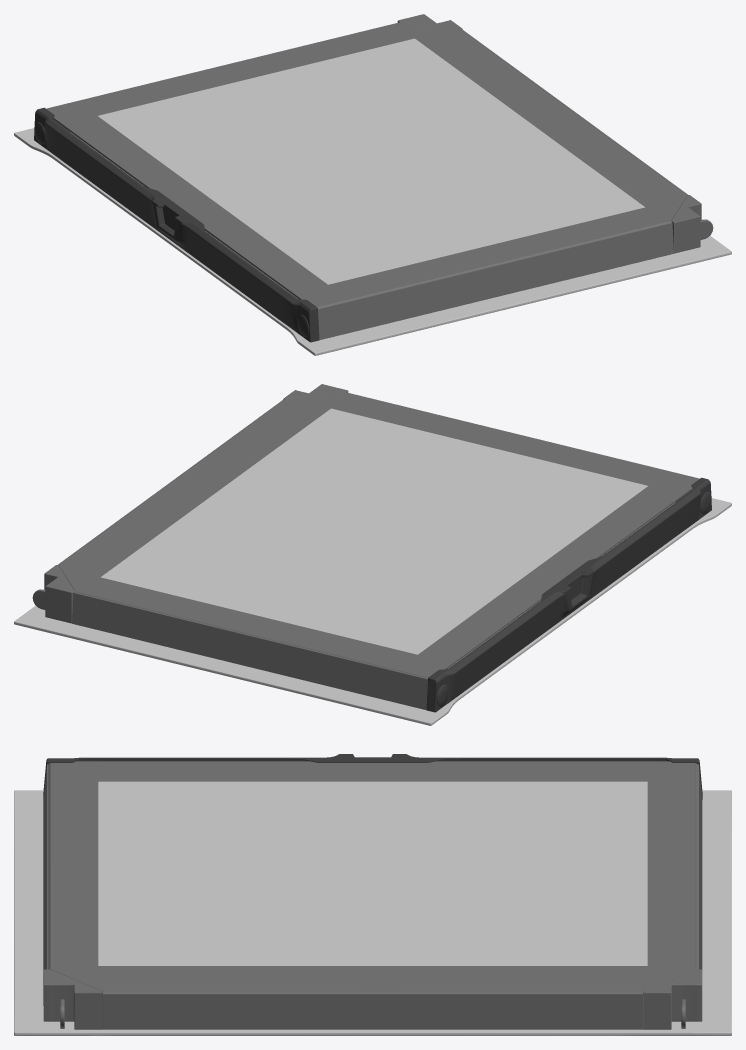
File: SM_Oven_Door1d01d01d0.obj
The picture shows the model from 3 angles, top to bottom: view 1: azimuth 30°, elevation 25°; view 2: azimuth 150°, elevation 25°; view 3: azimuth 270°, elevation 25°; orthographic projection. The views are drawn at different scales.
Visible parts, largest first — view 1: SM_Oven_Door1d01d01d0_SM_Oven_Door; view 2: SM_Oven_Door1d01d01d0_SM_Oven_Door; view 3: SM_Oven_Door1d01d01d0_SM_Oven_Door.
Part boxes in pixels (box(x1,y1,x2,y2)): SM_Oven_Door1d01d01d0_SM_Oven_Door: box(14, 14, 731, 355); SM_Oven_Door1d01d01d0_SM_Oven_Door: box(14, 384, 731, 725); SM_Oven_Door1d01d01d0_SM_Oven_Door: box(14, 754, 731, 1035).
Bounding box in the file's own units: 0.4731 × 0.0371 × 0.5909.
Materials: 4 (2 with a texture image).
